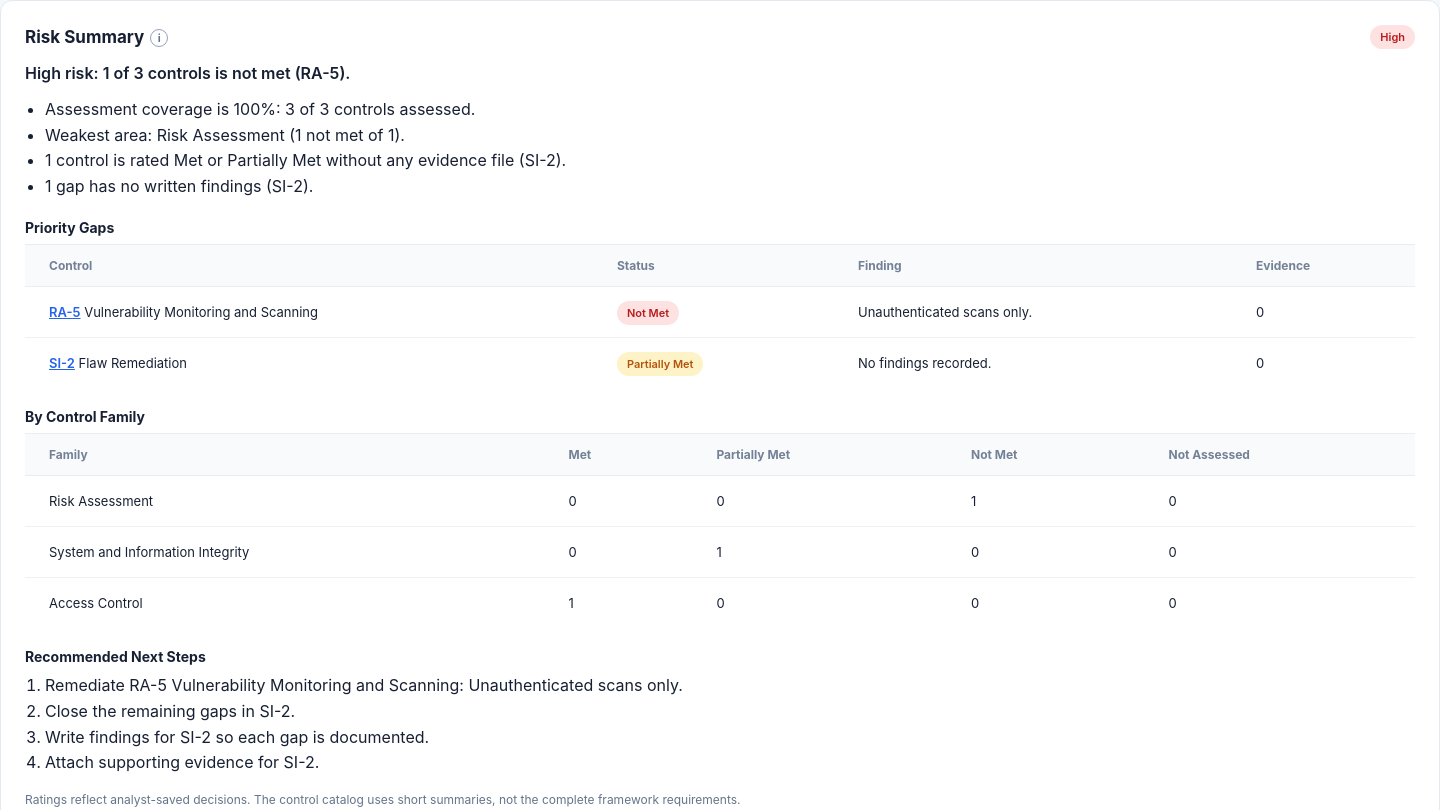
it: RiskSummary › links a priority gap to its control page
Click the button "RA-5" at (65, 312), box [49,304,80,320]
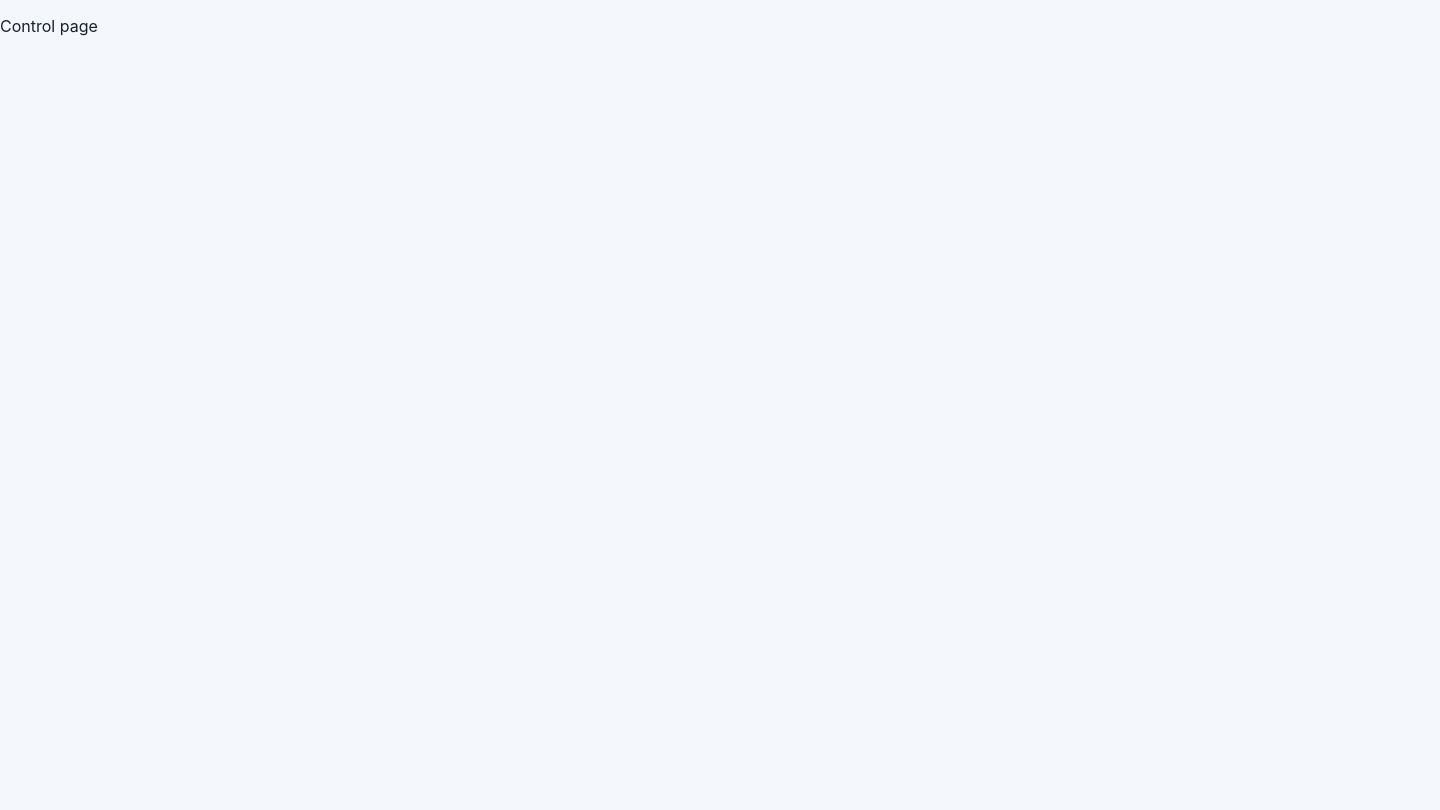
expect the text "Control page" is shown: met, box [0,16,98,36]
